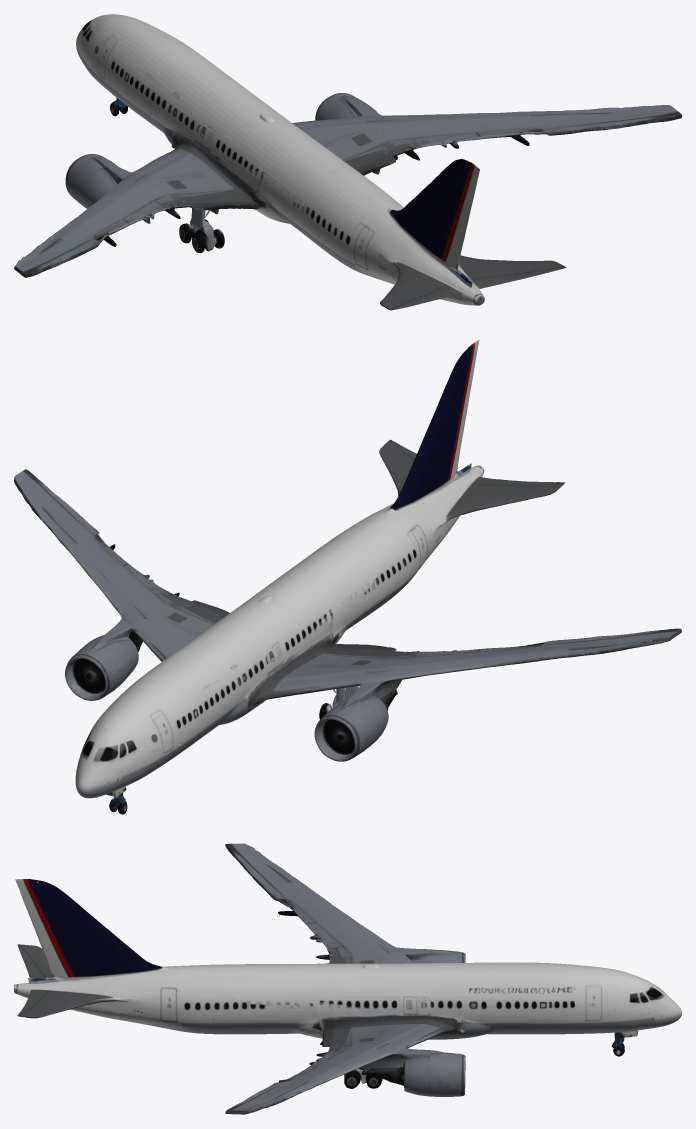
Rendered from boeing787.glb.
3 renders of one model, top to bottom at view 1: azimuth 30°, elevation 25°; view 2: azimuth 150°, elevation 25°; view 3: azimuth 270°, elevation 25°, orthographic. The views are drawn at different scales.
Visible parts, largest first — view 1: tripo_node_c92b41a2-72cb-460f-b1c7-3389f027a63e; view 2: tripo_node_c92b41a2-72cb-460f-b1c7-3389f027a63e; view 3: tripo_node_c92b41a2-72cb-460f-b1c7-3389f027a63e.
Part boxes in pixels (<box>): tripo_node_c92b41a2-72cb-460f-b1c7-3389f027a63e: <box>14,14,681,310</box>; tripo_node_c92b41a2-72cb-460f-b1c7-3389f027a63e: <box>14,340,681,814</box>; tripo_node_c92b41a2-72cb-460f-b1c7-3389f027a63e: <box>14,843,681,1114</box>.
Size of the model in its own units: 0.9498 by 0.2921 by 1.
Materials: 1 (1 with a texture image).
